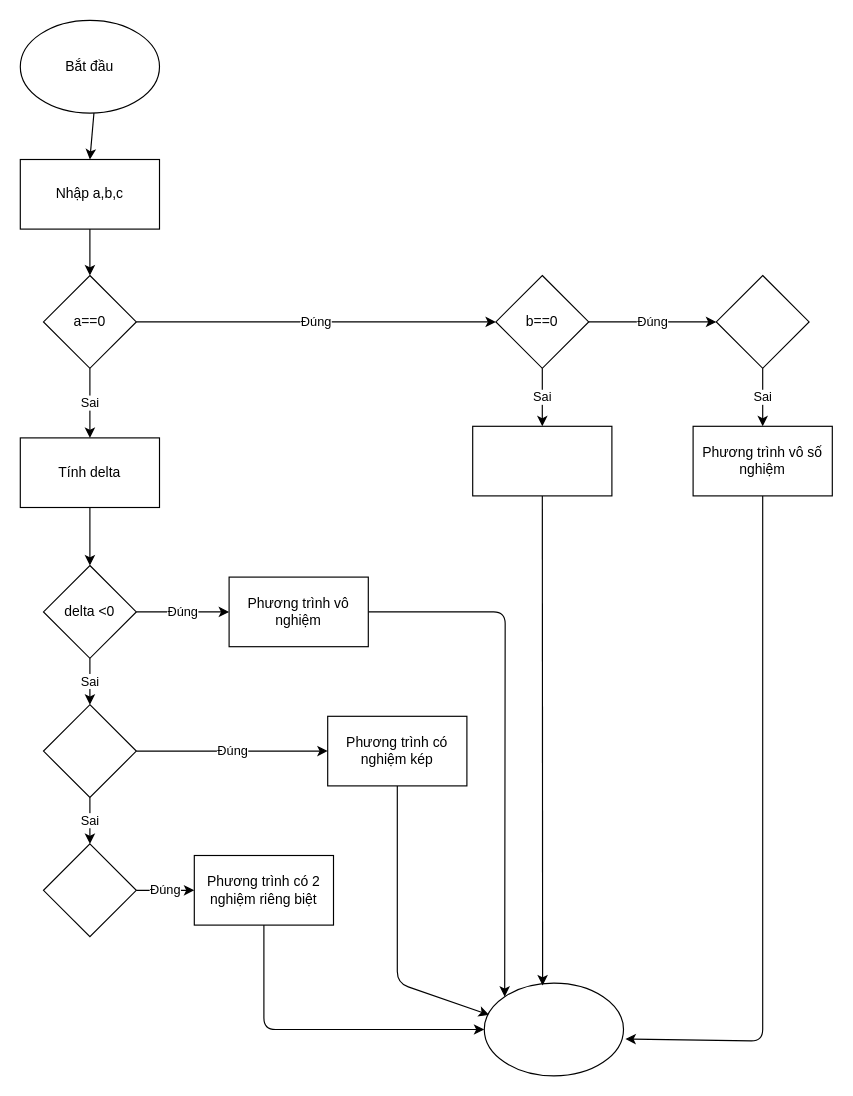
Image size: 853x1096. Some labels were removed from this diagram. The shapes that lost their labels are listed below. From the top down, each one's box as (x1, y1, x2, y2) in pixels, then its label:
(715, 274, 809, 368): c==0
(472, 425, 612, 496): Tính x=-c/b
(42, 704, 136, 798): delta ==0
(42, 843, 136, 937): delta >0
(483, 982, 624, 1076): Kết thúc
